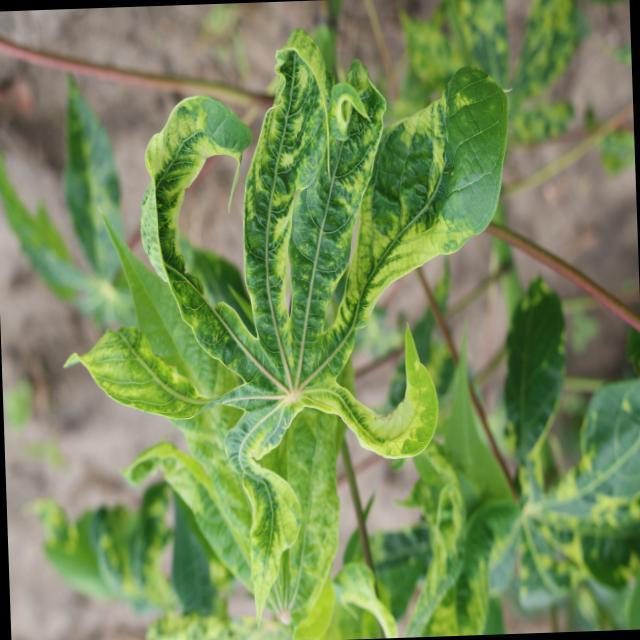Mosaic Virus: (237, 24, 452, 370), (486, 296, 640, 622), (138, 78, 238, 366), (216, 379, 302, 615)
